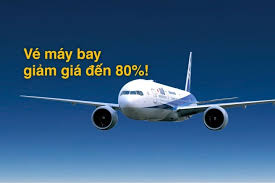maybay_dansu: (32, 60, 275, 137)
